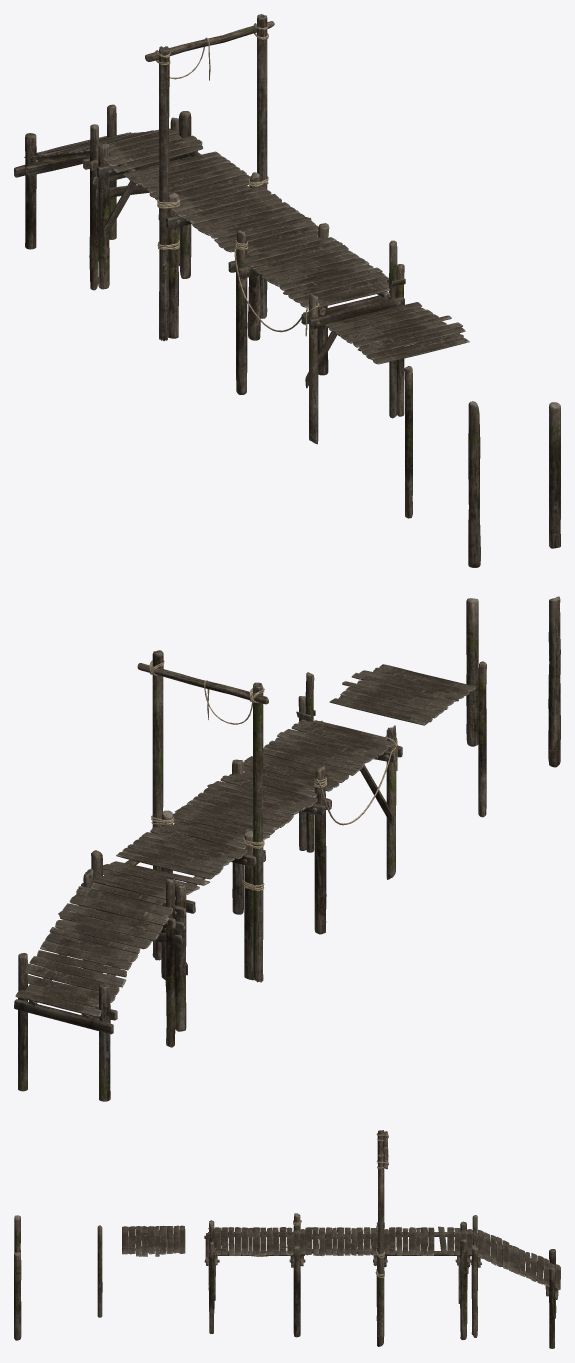
File: pier.gltf
3 renders of one model, top to bottom at view 1: azimuth 30°, elevation 25°; view 2: azimuth 150°, elevation 25°; view 3: azimuth 270°, elevation 25°, orthographic. The views are drawn at different scales.
Visible parts, largest first — view 1: modular_wooden_pier_planks, modular_wooden_pier_section_01, modular_wooden_pier_poles; view 2: modular_wooden_pier_planks, modular_wooden_pier_section_01, modular_wooden_pier_poles; view 3: modular_wooden_pier_planks, modular_wooden_pier_section_01, modular_wooden_pier_poles.
Boxes of the visible parts, x1,y1,x2,y2 form: modular_wooden_pier_planks: (14,23,469,388); modular_wooden_pier_section_01: (25,14,404,444); modular_wooden_pier_poles: (404,366,560,567); modular_wooden_pier_planks: (14,660,476,1034); modular_wooden_pier_section_01: (18,650,396,1101); modular_wooden_pier_poles: (466,596,560,817); modular_wooden_pier_planks: (122,1132,560,1303); modular_wooden_pier_section_01: (204,1130,558,1348); modular_wooden_pier_poles: (14,1215,102,1340).
Size of the model in its own units: 3.1 by 7.51 by 19.03.
2 materials, 2 textured.
